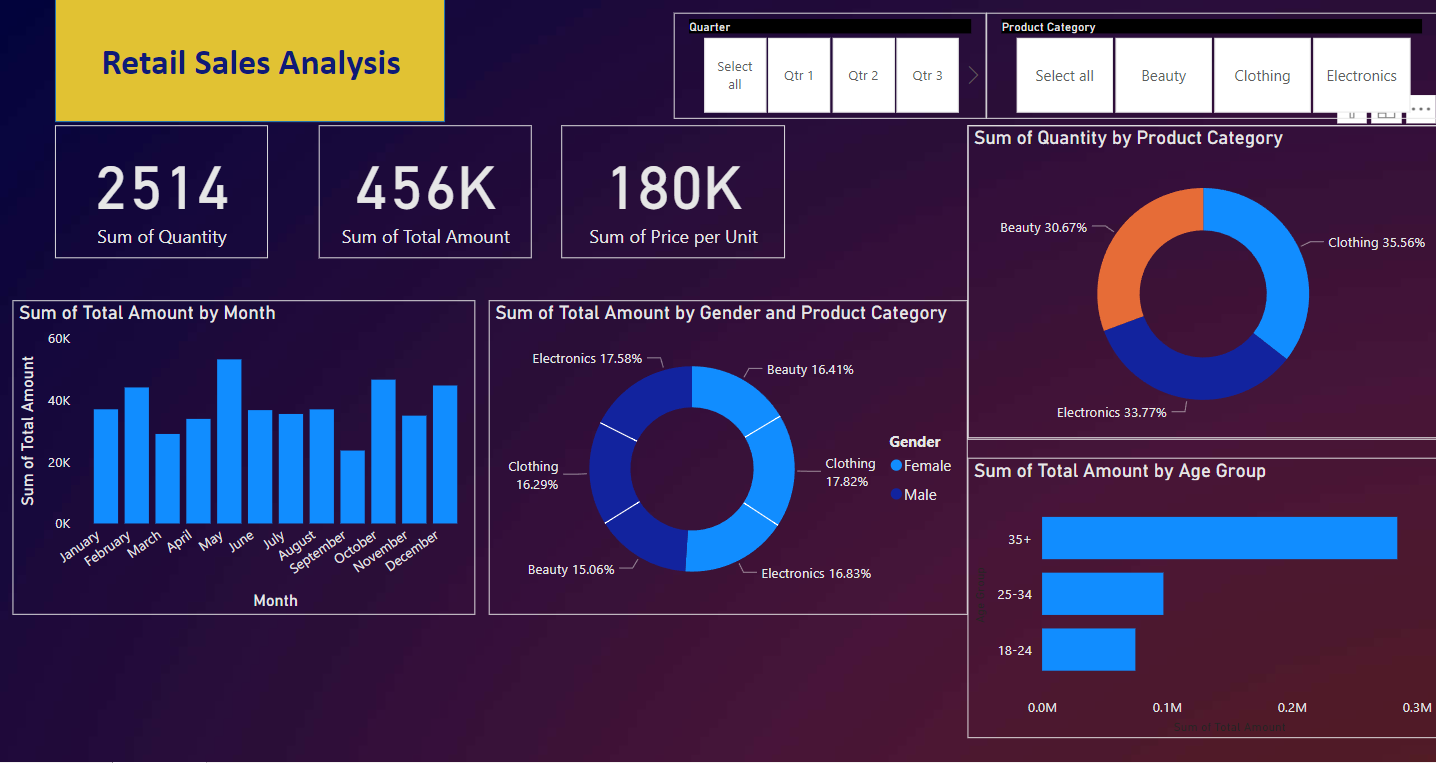

What the dashboard file says about the page in this screenshot:
{"tool":"powerbi","page":{"name":"Page 1","canvas":[1280,720],"ordinal":0},"visuals":[{"type":"columnChart","fields":{"Category":["retal seals.Date.Variation.Date Hierarchy.Month"],"Y":["Sum(retal seals.Total Amount)"]},"box":[11,308.7,411.7,279.9],"z":0},{"type":"donutChart","fields":{"Category":["retal seals.Product Category"],"Y":["Sum(retal seals.Quantity)"]},"box":[861.8,152.3,418.5,279.9],"z":1000},{"type":"card","fields":{"Values":["Sum(retal seals.Quantity)"]},"box":[49.4,152.3,189.4,118],"z":2000},{"type":"card","fields":{"Values":["Sum(retal seals.Total Amount)"]},"box":[284,152.3,189.4,118],"z":3000},{"type":"card","fields":{"Values":["Sum(retal seals.Price per Unit)"]},"box":[499.5,152.3,199,118],"z":4000},{"type":"clusteredBarChart","fields":{"Y":["Sum(retal seals.Total Amount)"],"Category":["retal seals.Age Group "]},"box":[861.8,448.7,418.5,249.7],"z":5000},{"type":"donutChart","fields":{"Category":["retal seals.Gender"],"Y":["Sum(retal seals.Total Amount)"],"Series":["retal seals.Product Category"]},"box":[435,308.7,426.8,279.9],"z":6000},{"type":"slicer","fields":{"Values":["retal seals.Date.Variation.Date Hierarchy.Quarter"]},"box":[599.7,52.1,278.6,94.7],"z":7000},{"type":"slicer","fields":{"Values":["retal seals.Product Category"]},"box":[878.2,52.1,402.1,94.7],"z":8000},{"type":"textbox","box":[49.4,0,347.2,149.6],"z":9000}]}

Visuals, with their boxes in screenshot pixels (x1, y1, x2, y2):
columnChart - retal seals.Date.Variation.Date Hierarchy.Month x Sum(retal seals.Total Amount): bbox=(9, 298, 471, 612)
donutChart - retal seals.Product Category x Sum(retal seals.Quantity): bbox=(964, 122, 1434, 437)
card - Sum(retal seals.Quantity): bbox=(52, 122, 264, 255)
card - Sum(retal seals.Total Amount): bbox=(315, 122, 528, 255)
card - Sum(retal seals.Price per Unit): bbox=(557, 122, 781, 255)
clusteredBarChart - Sum(retal seals.Total Amount) x retal seals.Age Group : bbox=(964, 455, 1434, 736)
donutChart - retal seals.Gender x Sum(retal seals.Total Amount): bbox=(485, 298, 964, 612)
slicer - retal seals.Date.Variation.Date Hierarchy.Quarter: bbox=(670, 10, 983, 116)
slicer - retal seals.Product Category: bbox=(983, 10, 1434, 116)
textbox: bbox=(52, 0, 442, 119)
